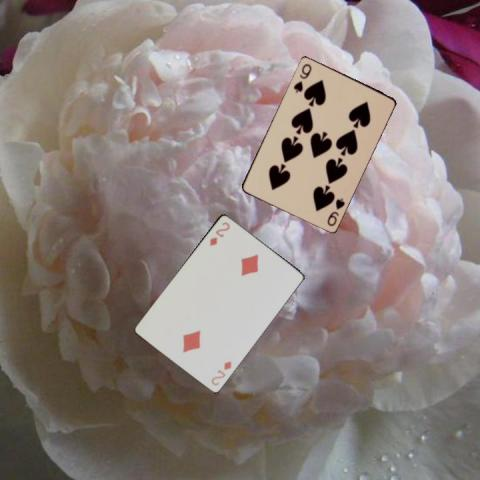2d: (208, 357, 233, 387), (207, 218, 231, 246)
9s: (290, 60, 313, 94), (324, 195, 346, 227)
